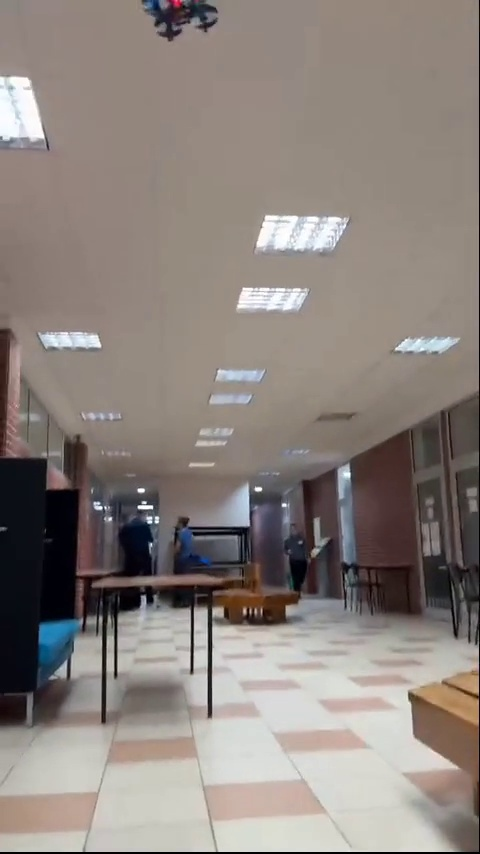drone: (141, 0, 221, 42)
no vest: (122, 503, 162, 568), (280, 521, 313, 599), (173, 511, 203, 565)
